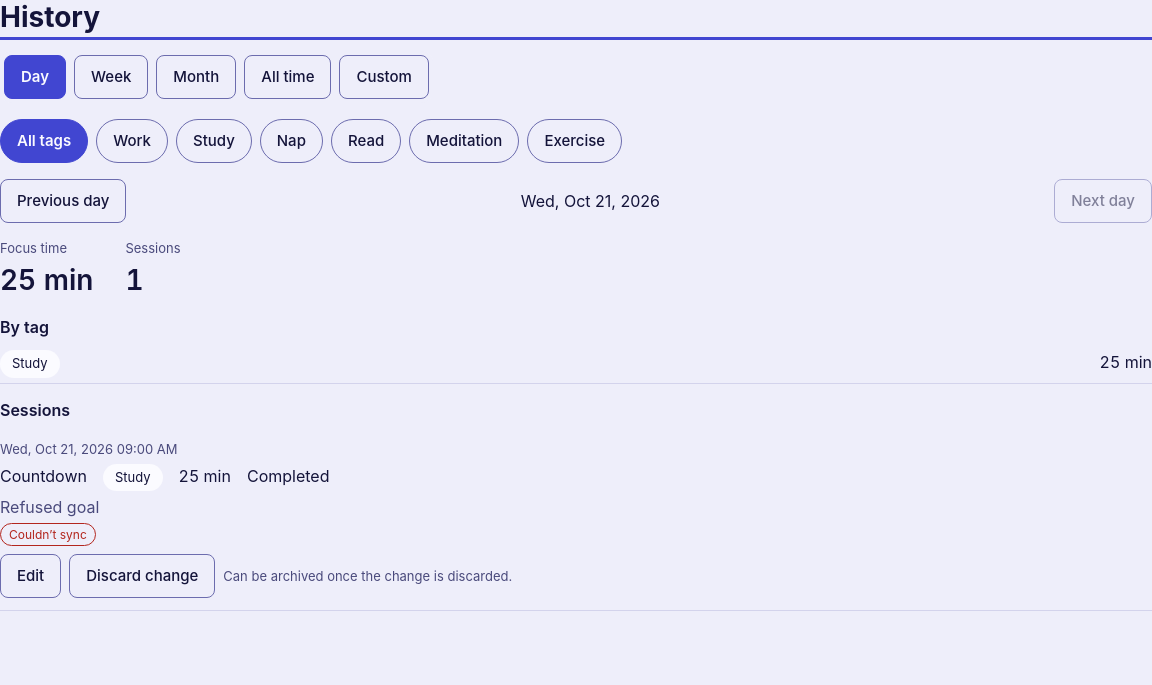
Scenario: Discard change: edge cases (#253) › when the discard fails, says so and puts focus back on the Discard button
Expected: the text "Refused goal" is shown, [0,497,99,517]
Step 1. Click the button with aria-label "Discard change to session" → (142, 576), box [69,554,215,598]
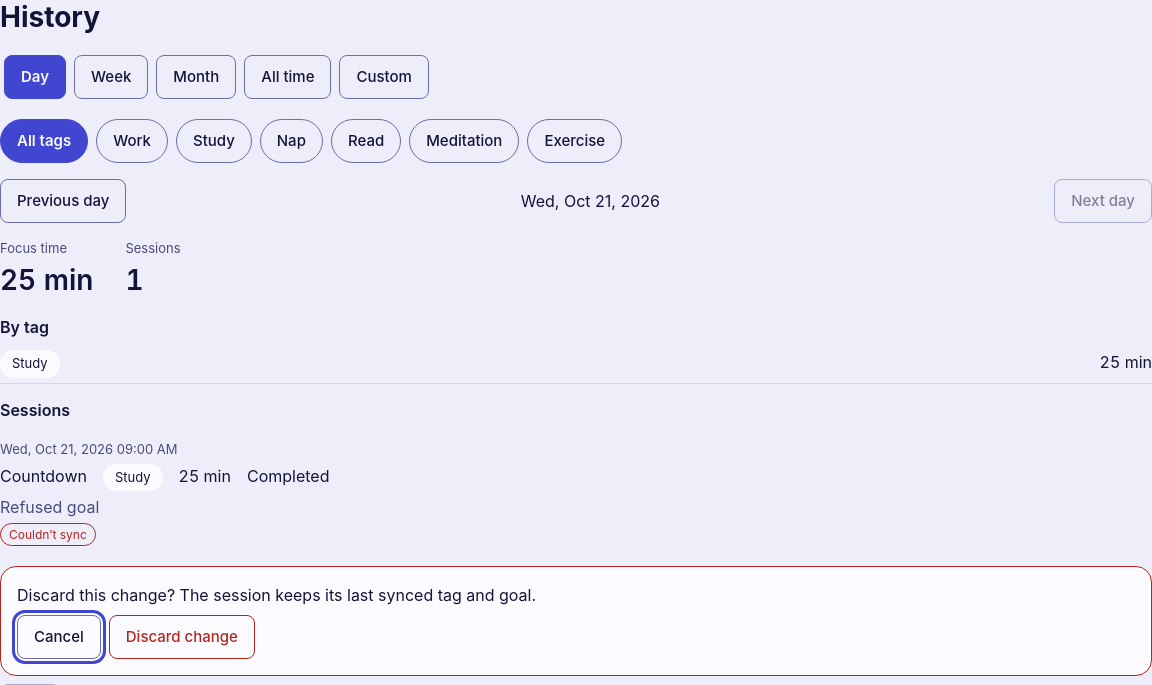
Step 2. Click the button "Discard change" → (182, 637), box [109,615,255,659]
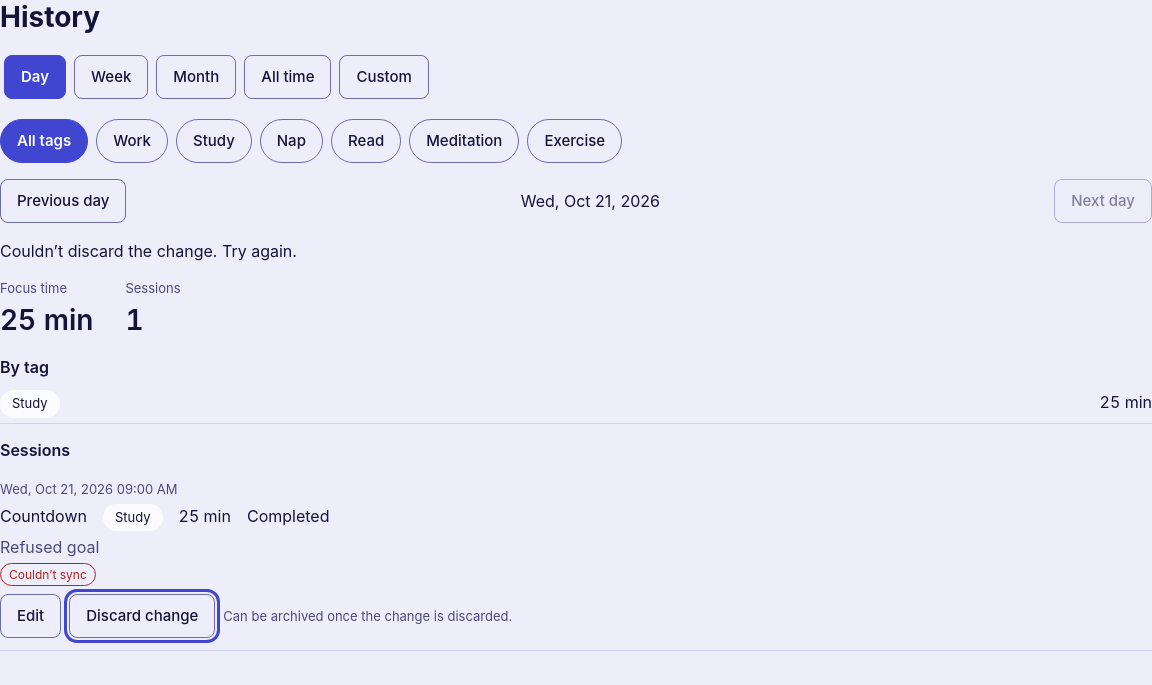
Expected: the text "Refused goal" is shown, [0,537,99,557]
Expected: the message shows "Couldn’t discard the change", [0,241,297,261]
Expected: the dialog is gone
